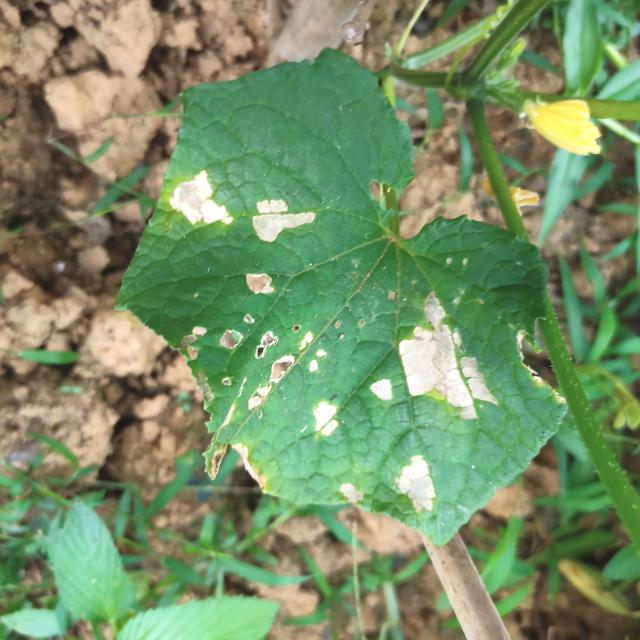disease_cucumber: (335, 278, 504, 516), (167, 157, 323, 310), (192, 313, 346, 461)
